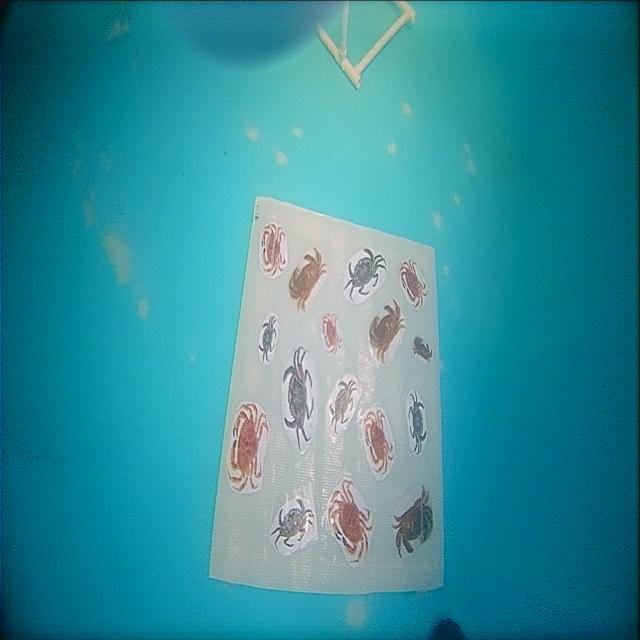GreenCrab: (283, 347, 314, 452), (270, 498, 312, 549), (345, 248, 386, 299), (409, 393, 426, 453), (259, 316, 276, 361)
